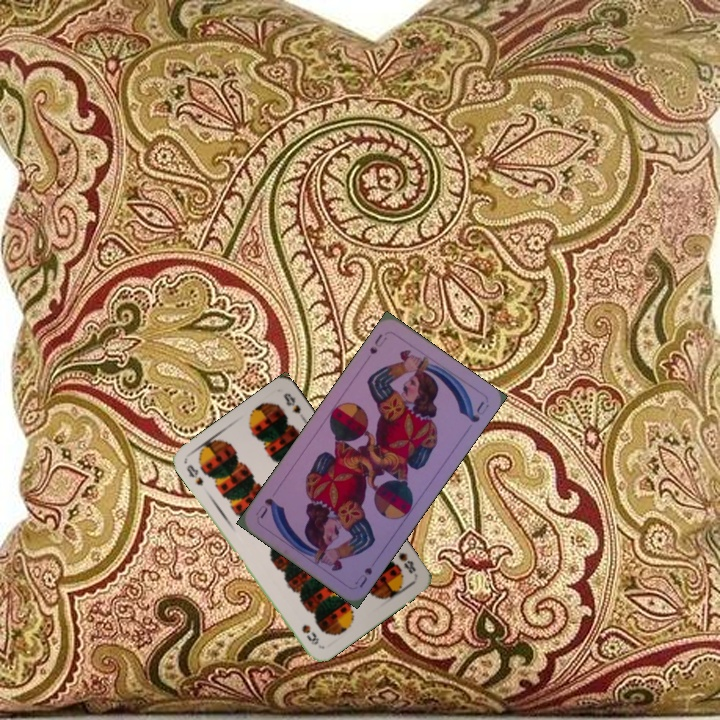S8: (394, 548, 418, 576), (183, 460, 206, 488)
SU: (350, 563, 375, 590), (365, 330, 390, 357)
